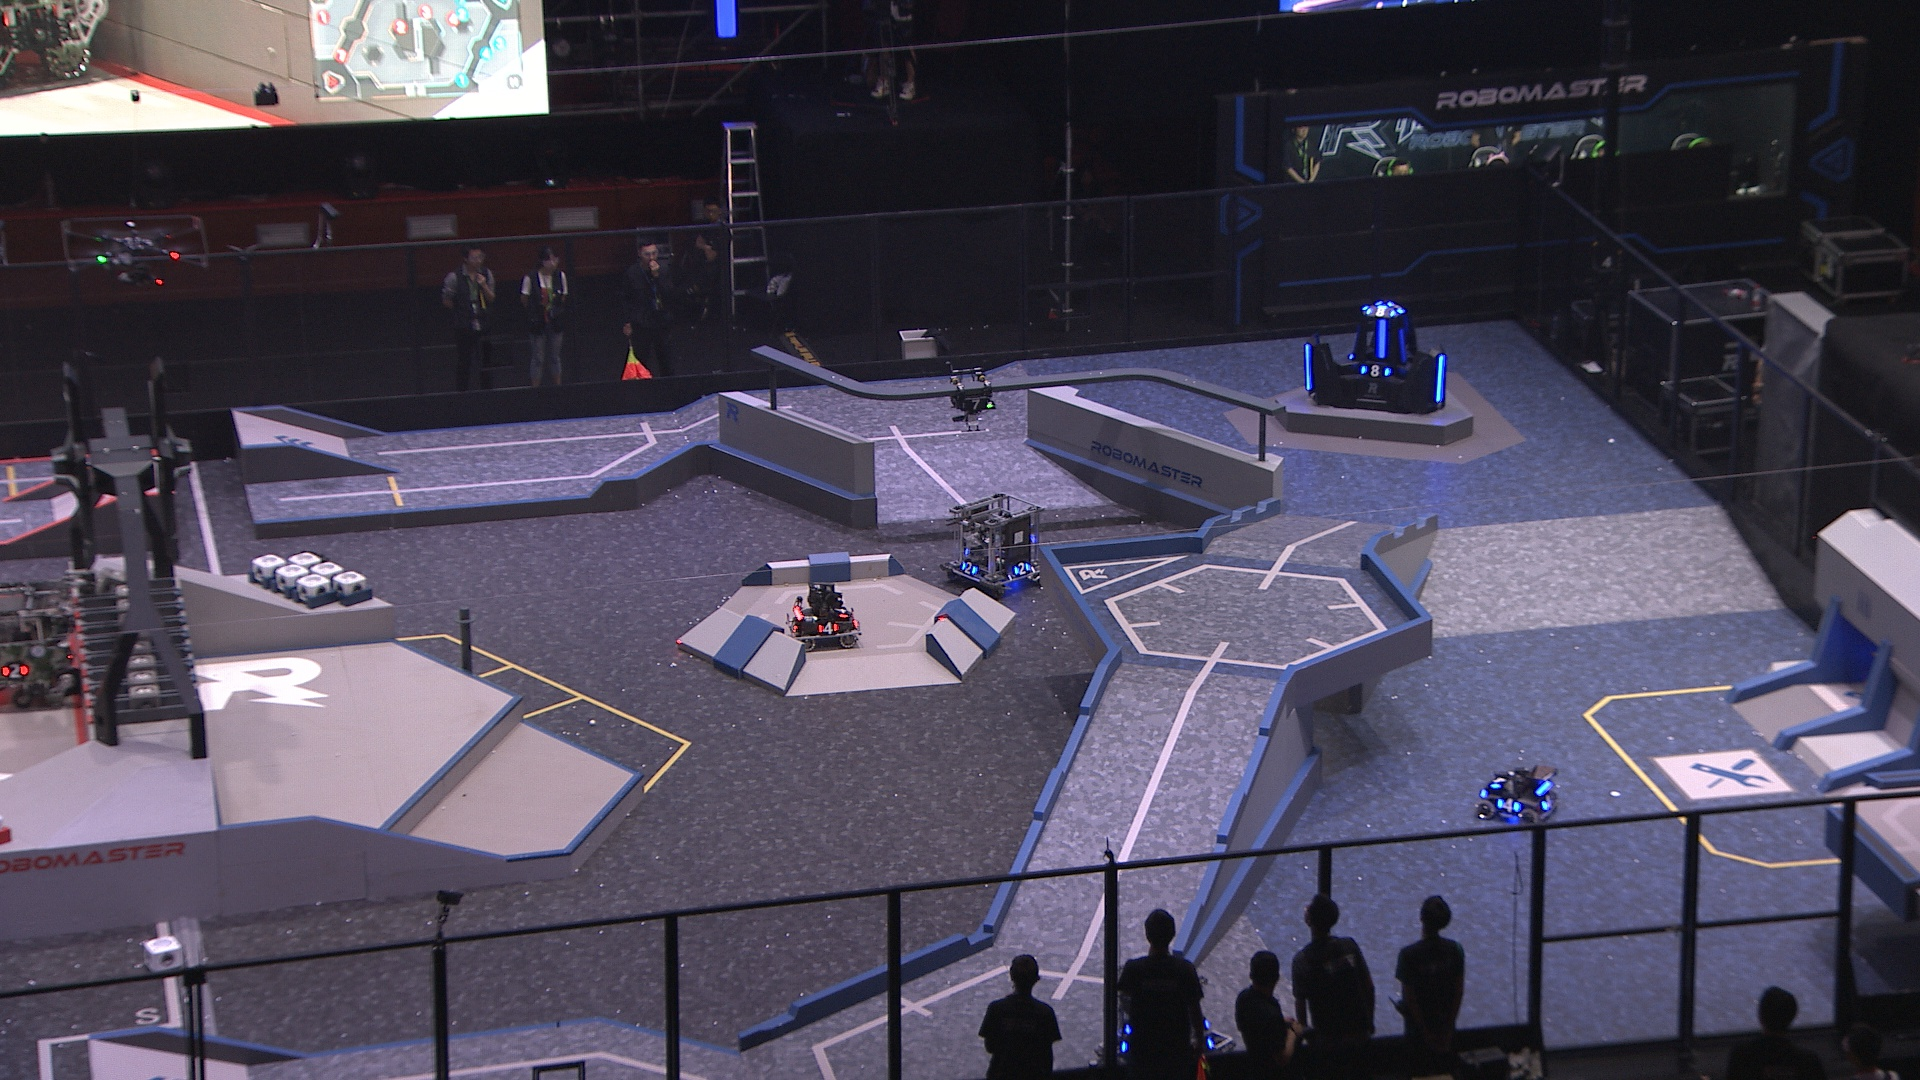armor: (1300, 338, 1317, 392), (1433, 353, 1451, 405), (1375, 319, 1393, 357), (1362, 301, 1396, 319), (959, 396, 992, 414), (1493, 796, 1522, 816), (1, 661, 30, 680), (1358, 365, 1395, 380), (1542, 790, 1557, 815), (1487, 771, 1509, 790), (1386, 297, 1404, 316), (832, 599, 851, 618), (814, 621, 839, 636), (959, 559, 978, 576), (1399, 328, 1408, 363), (1011, 560, 1030, 578), (787, 617, 800, 640)
base: (1295, 291, 1452, 419)
car: (1093, 949, 1240, 1072), (935, 491, 1058, 600), (1472, 749, 1567, 831), (783, 580, 862, 657)
watcher: (944, 356, 997, 434)
